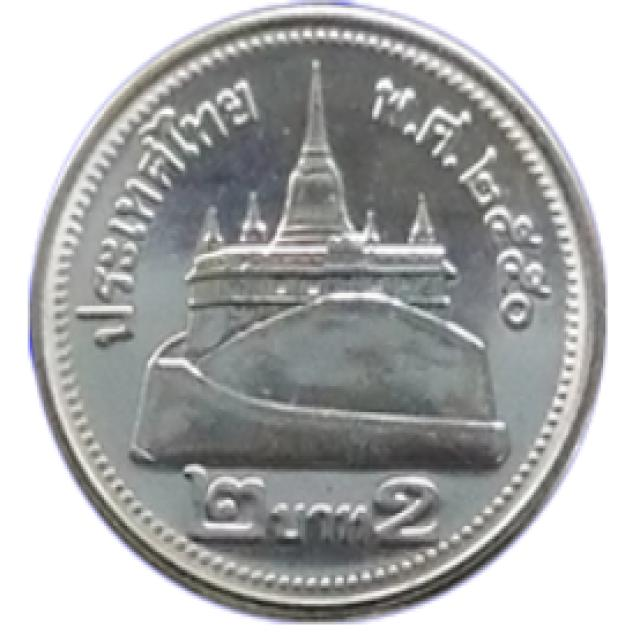2 Bath: (19, 1, 625, 636)
